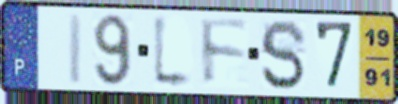7: (313, 19, 355, 93)
9: (90, 12, 135, 89)
F: (198, 15, 252, 90)
I: (66, 12, 85, 87)
L: (151, 11, 196, 92)
S: (258, 17, 309, 93)
